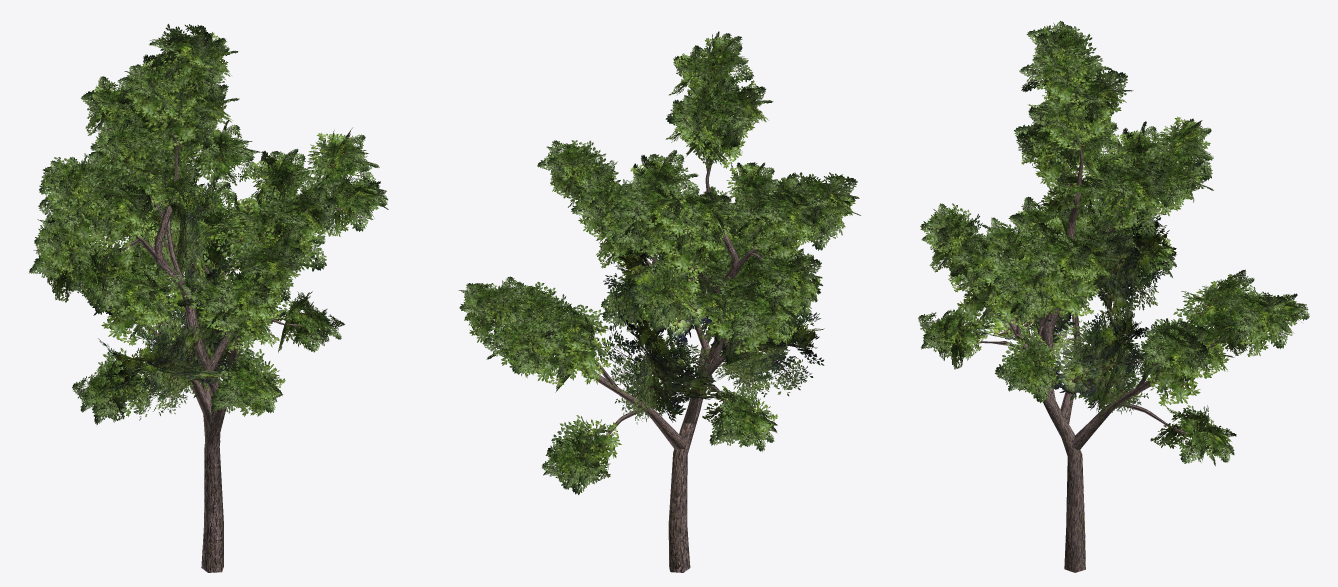
File: TRP-TreeCommon_Green 01.FBX
The picture shows the model from 3 angles, left to right: view 1: azimuth 30°, elevation 25°; view 2: azimuth 150°, elevation 25°; view 3: azimuth 270°, elevation 25°; orthographic projection. The views are drawn at different scales.
Visible parts, largest first — view 1: Just Another Model2, Just Another Model3, Just Another Model1; view 2: Just Another Model2, Just Another Model3, Just Another Model1; view 3: Just Another Model2, Just Another Model3, Just Another Model1.
Part boxes in pixels (x1,y1,x2,y2): Just Another Model2: (29, 24, 388, 424); Just Another Model3: (98, 168, 253, 420); Just Another Model1: (120, 51, 345, 572); Just Another Model2: (458, 31, 860, 494); Just Another Model3: (602, 241, 824, 424); Just Another Model1: (509, 137, 790, 572); Just Another Model2: (918, 21, 1309, 465); Just Another Model3: (977, 211, 1170, 422); Just Another Model1: (976, 94, 1262, 572).
Bounding box in the file's own units: 524 × 565 × 801.
3 materials, 3 textured.
